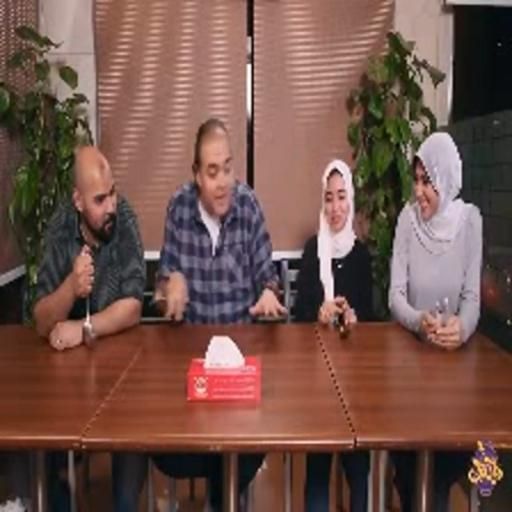nao-violencia: (285, 127, 494, 359)
